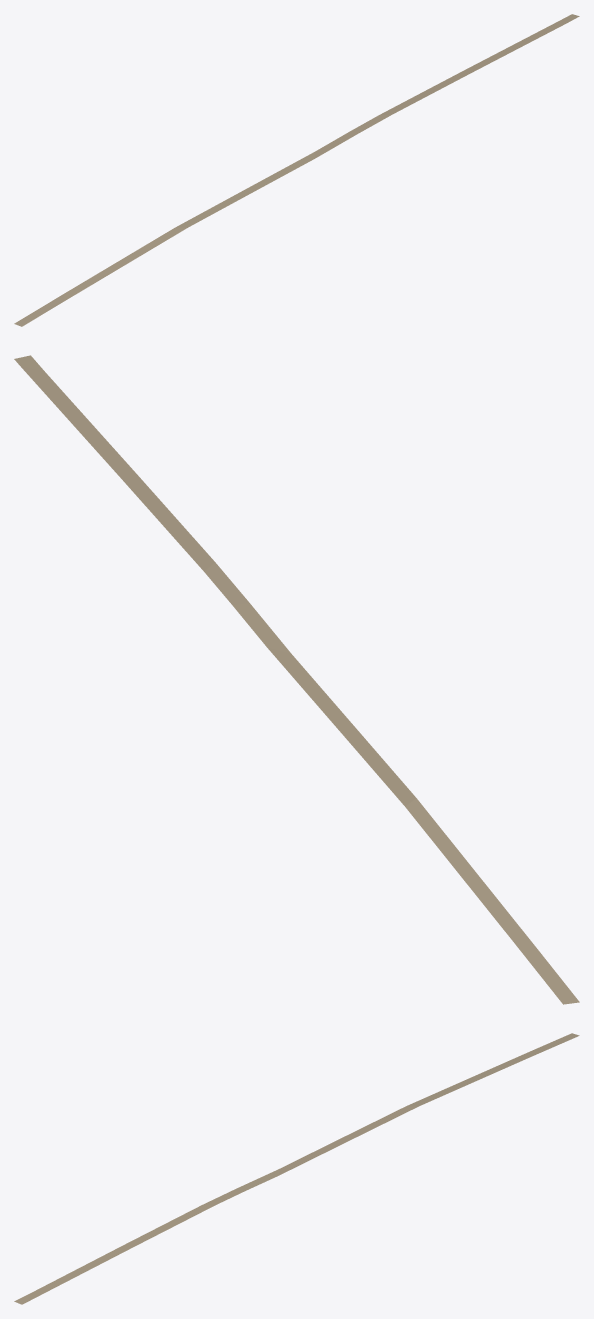
The model's file is farm_-2_3_track.glb.
3 views of the same model, one above another, from view 1: azimuth 90°, elevation 25°; view 2: azimuth 150°, elevation 25°; view 3: azimuth 270°, elevation 25° (orthographic). The views are drawn at different scales.
Parts seen in each view (by area): view 1: geometry_0; view 2: geometry_0; view 3: geometry_0.
Part boxes in pixels (x1,y1,x2,y2): geometry_0: (14,14,579,326); geometry_0: (14,355,579,1004); geometry_0: (14,1033,579,1304).
Bounding box in the file's own units: 221 × 7.45 × 181.
